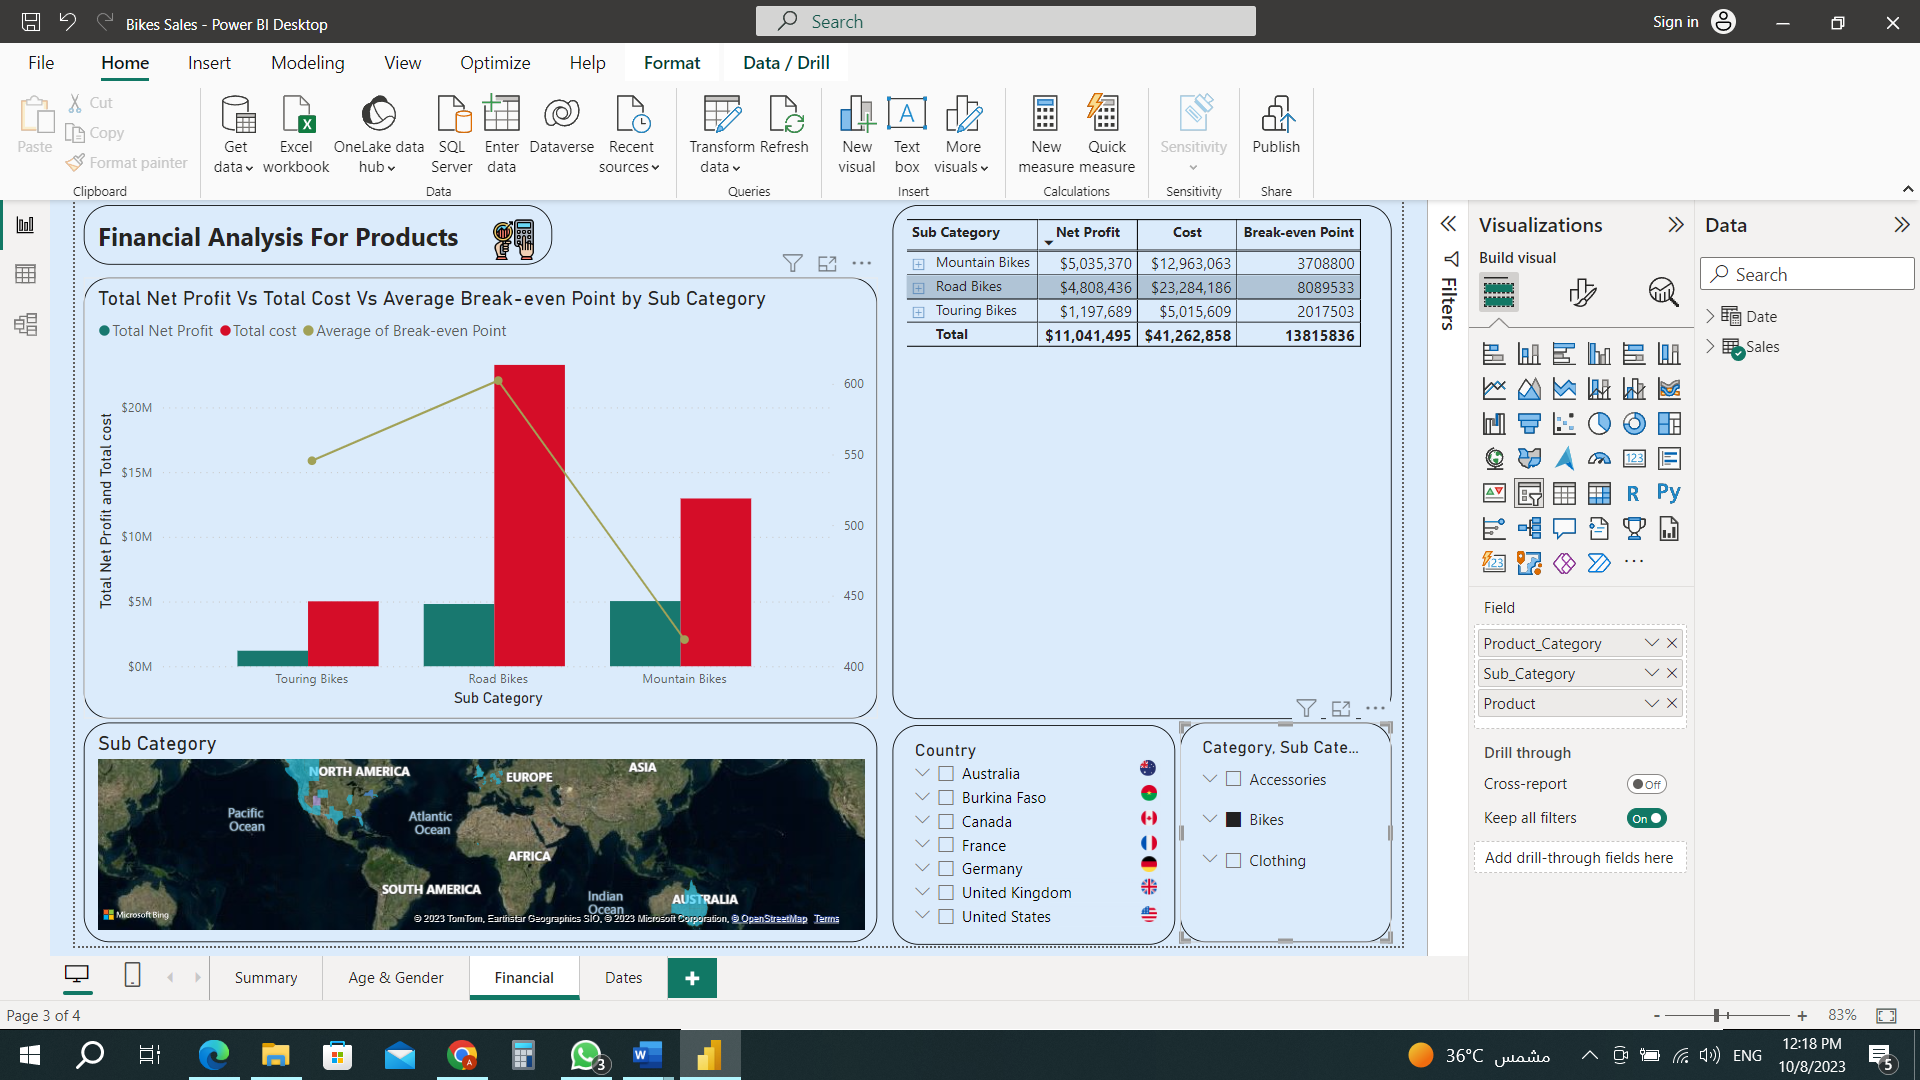

Layout of this report page (visuals, bound fields, positions):
{"tool":"powerbi","page":{"name":"Financial","canvas":[1280,720],"ordinal":2},"visuals":[{"type":"lineClusteredColumnComboChart","title":"Total Net Profit Vs Total Cost Vs Average Break-even Point by Sub Category","fields":{"Category":["Sales.Sub_Category"],"Y2":["Avg(Sales.Break-even Point)"],"Y":["Sum(Sales.Net Profit)","Sum(Sales.cost)"]},"box":[8.4,74.8,765.8,425.7],"z":0},{"type":"slicer","fields":{"Values":["Sales.Product_Category","Sales.Sub_Category","Sales.Product"]},"box":[1066.1,504.1,203.8,212.3],"z":1000},{"type":"slicer","fields":{"Values":["Sales.Corrected Country","Sales.State"]},"box":[788.7,506.5,272.6,212.3],"z":2000},{"type":"image","box":[1024.3,608,25,25],"z":3000},{"type":"image","box":[1024.3,628,25,25],"z":4000},{"type":"image","box":[1024.3,650,25,25],"z":5000},{"type":"image","box":[1024.3,677,25,25],"z":6000},{"type":"image","box":[1024.3,584,25,25],"z":7000},{"type":"image","box":[1023,536,25,25],"z":8000},{"type":"image","box":[1219.3,583.7,35,35],"z":9000},{"type":"image","box":[1219.3,623.5,35,33.8],"z":10000},{"type":"image","box":[1219.3,545.1,35,30.2],"z":11000},{"type":"textbox","box":[8.4,5,452,57.9],"z":12000},{"type":"image","box":[398,13.3,49.4,49.4],"z":13000},{"type":"image","box":[1024,560,25,25],"z":17000},{"type":"pivotTable","fields":{"Rows":["Sales.Sub_Category","Sales.Product"],"Values":["Sum(Sales.Net Profit)","Sum(Sales.cost)","Sum(Sales.Break-even Point)"]},"box":[788.7,4.8,481.2,495.7],"z":18000},{"type":"filledMap","title":" Sub Category","fields":{"Category":["Sales.State"],"Series":["Sales.Sub_Category"]},"box":[8.4,504.1,765.8,212.3],"z":19000}]}

Visuals, with their boxes on the page's 1280x720 design canvas (x1, y1, x2, y2). These are canvas units, not pixel positions in the 1920x1080 screenshot, which may show the page scaled, cropped or inside an application window:
"Total Net Profit Vs Total Cost Vs Average Break-even Point by Sub Category" lineClusteredColumnComboChart: (left=8, top=75, right=774, bottom=500)
slicer - Sales.Product_Category x Sales.Sub_Category: (left=1066, top=504, right=1270, bottom=716)
slicer - Sales.Corrected Country x Sales.State: (left=789, top=506, right=1061, bottom=719)
image: (left=1024, top=608, right=1049, bottom=633)
image: (left=1024, top=628, right=1049, bottom=653)
image: (left=1024, top=650, right=1049, bottom=675)
image: (left=1024, top=677, right=1049, bottom=702)
image: (left=1024, top=584, right=1049, bottom=609)
image: (left=1023, top=536, right=1048, bottom=561)
image: (left=1219, top=584, right=1254, bottom=619)
image: (left=1219, top=624, right=1254, bottom=657)
image: (left=1219, top=545, right=1254, bottom=575)
textbox: (left=8, top=5, right=460, bottom=63)
image: (left=398, top=13, right=447, bottom=63)
image: (left=1024, top=560, right=1049, bottom=585)
pivotTable - Sales.Sub_Category x Sales.Product: (left=789, top=5, right=1270, bottom=500)
" Sub Category" filledMap: (left=8, top=504, right=774, bottom=716)
